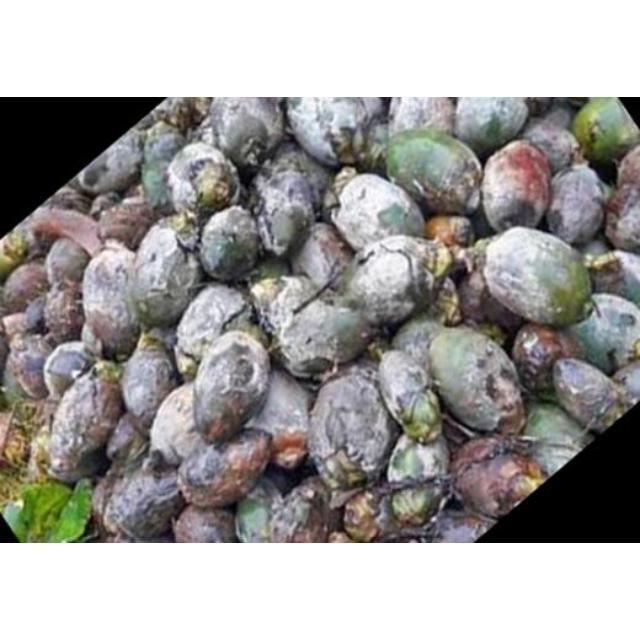damaged: (306, 363, 402, 487), (482, 227, 592, 329), (426, 325, 526, 435), (47, 363, 125, 485), (383, 128, 485, 216), (191, 331, 269, 443), (344, 237, 440, 327), (178, 428, 276, 510), (273, 296, 371, 376), (331, 173, 427, 253), (128, 225, 202, 328), (452, 438, 544, 520), (173, 284, 254, 370), (481, 140, 554, 232), (80, 248, 142, 356), (104, 460, 186, 540), (246, 370, 312, 468), (376, 348, 442, 444), (252, 168, 316, 260), (164, 142, 240, 218), (120, 334, 178, 426), (208, 97, 282, 169), (550, 358, 620, 434), (571, 294, 639, 372), (520, 404, 592, 474), (509, 322, 579, 393), (197, 206, 261, 282), (147, 384, 203, 468), (451, 97, 531, 155), (80, 132, 146, 195), (467, 267, 527, 333), (292, 223, 350, 289), (257, 274, 317, 336), (42, 340, 96, 402), (386, 432, 450, 484), (4, 336, 54, 400), (43, 280, 87, 342), (2, 262, 52, 316), (98, 202, 156, 248), (174, 505, 236, 543), (44, 237, 92, 285)
